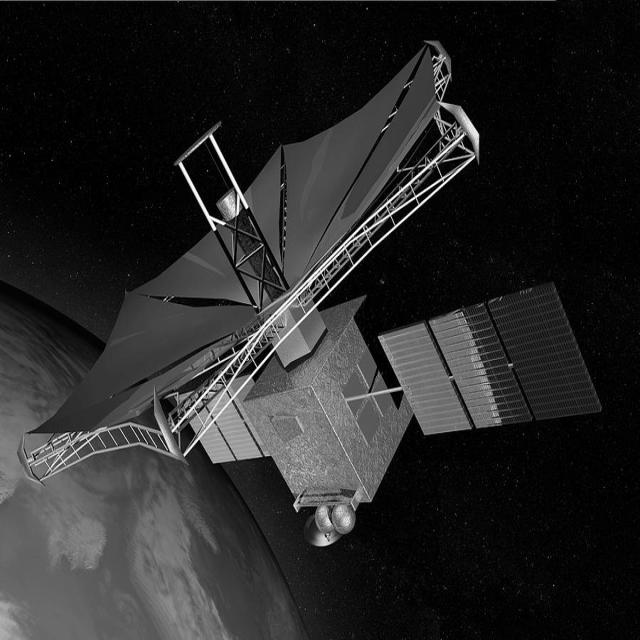satellite: (22, 35, 606, 548)
